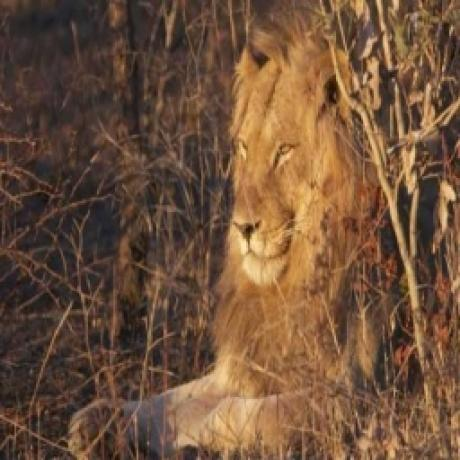Lion: (72, 36, 344, 460)
